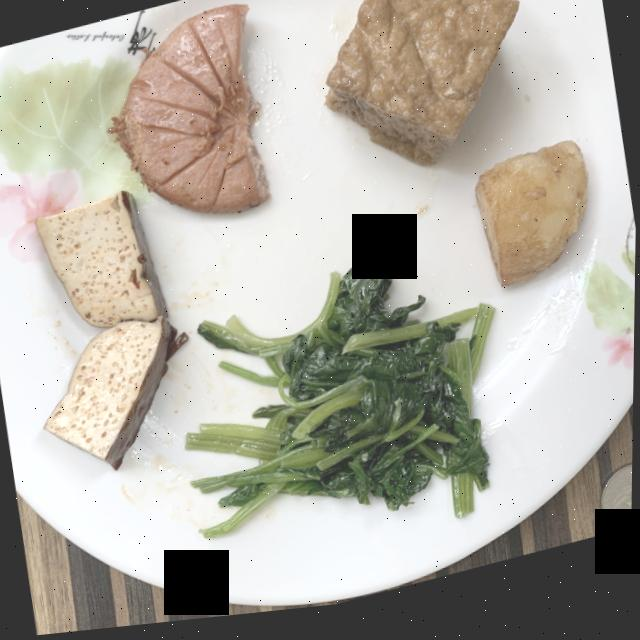Spam: (110, 8, 268, 217)
coin: (603, 478, 634, 544)
egg tofu: (326, 0, 519, 174)
firm tofu: (36, 193, 188, 472)
fried potato: (476, 152, 588, 297)
mustard greens: (186, 266, 495, 542)
